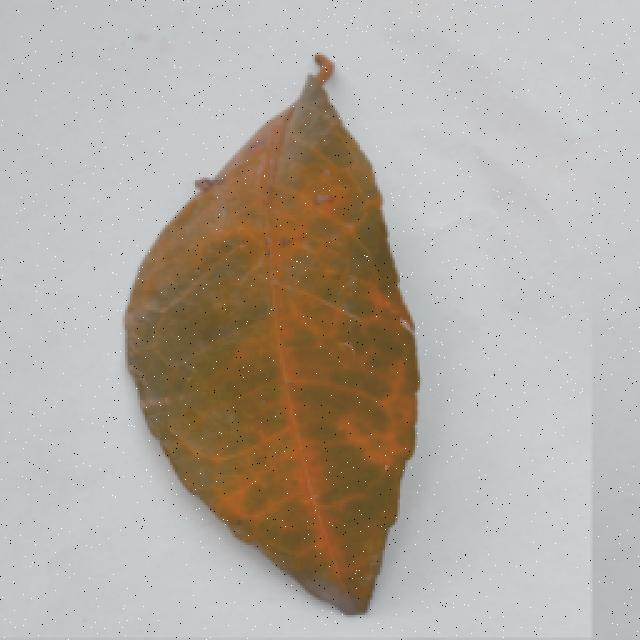blackspot: (92, 45, 468, 613)
